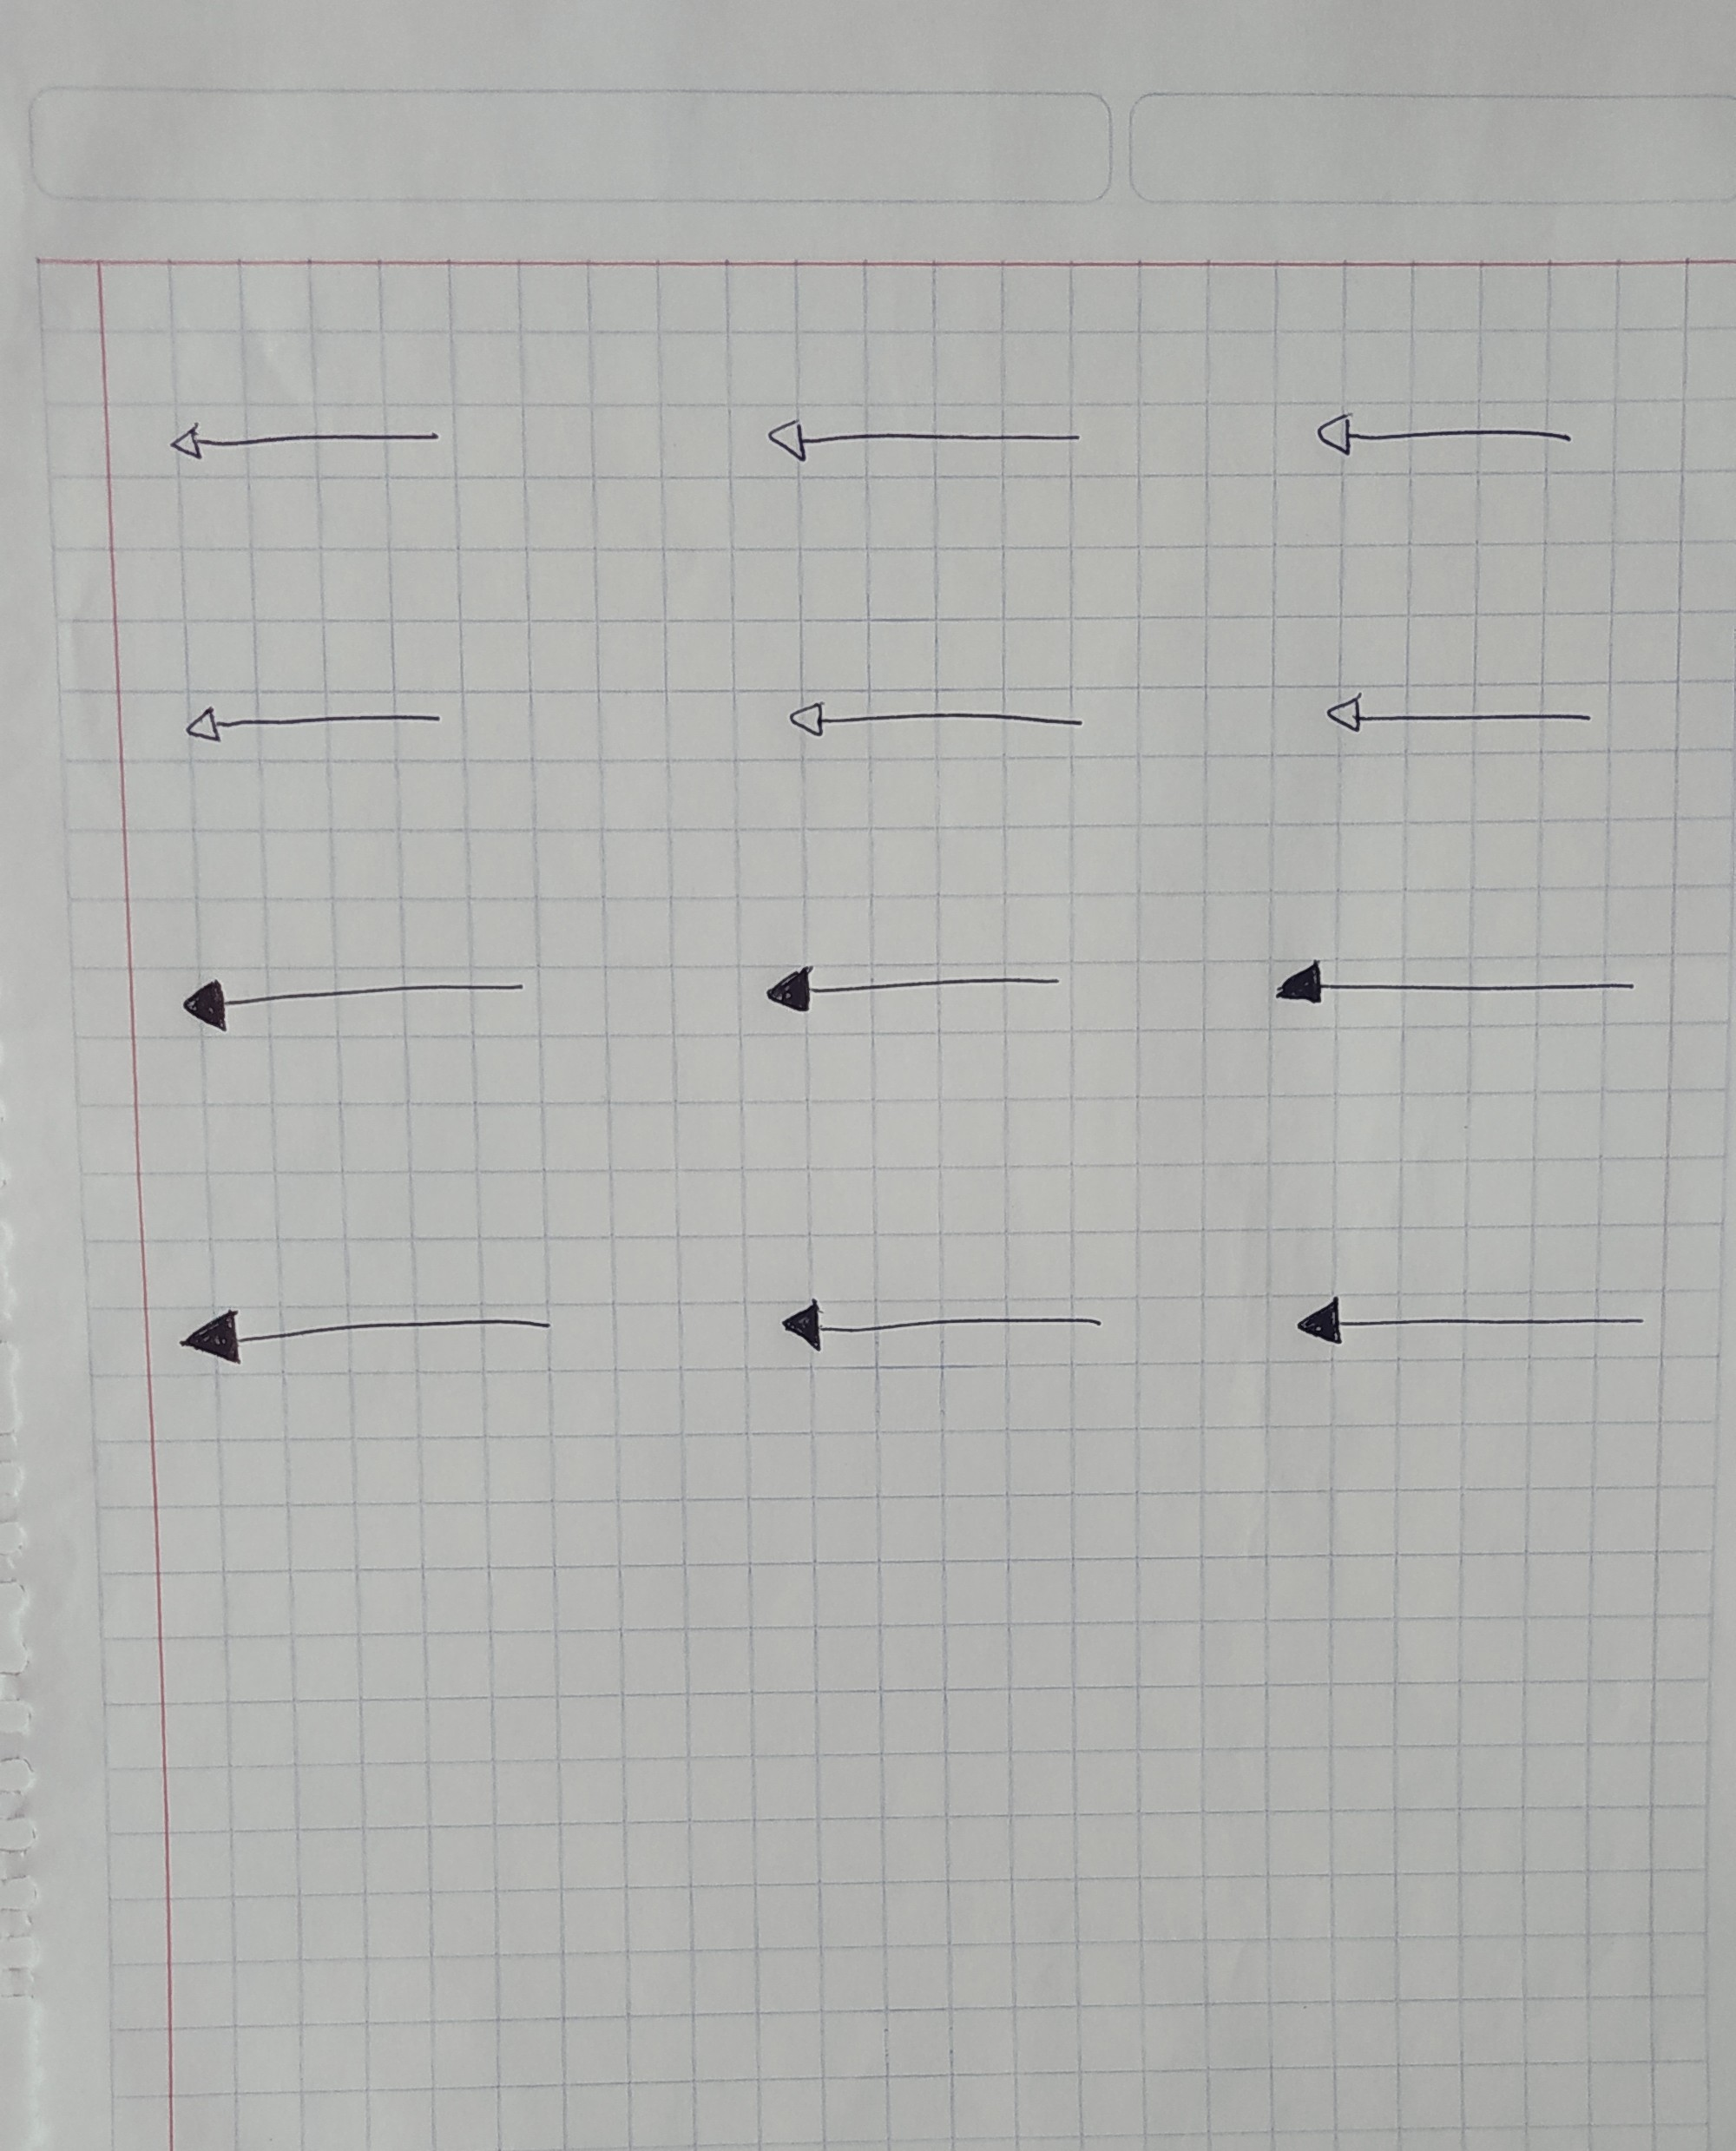arrow_line_left: (1261, 946, 1644, 1017), (174, 1297, 562, 1364), (165, 960, 526, 1029), (1291, 1288, 1646, 1355), (760, 406, 1084, 475), (772, 1295, 1105, 1361), (787, 686, 1088, 757), (751, 951, 1065, 1017), (1307, 402, 1578, 468), (1318, 682, 1598, 741), (163, 409, 443, 466), (179, 696, 446, 753)
